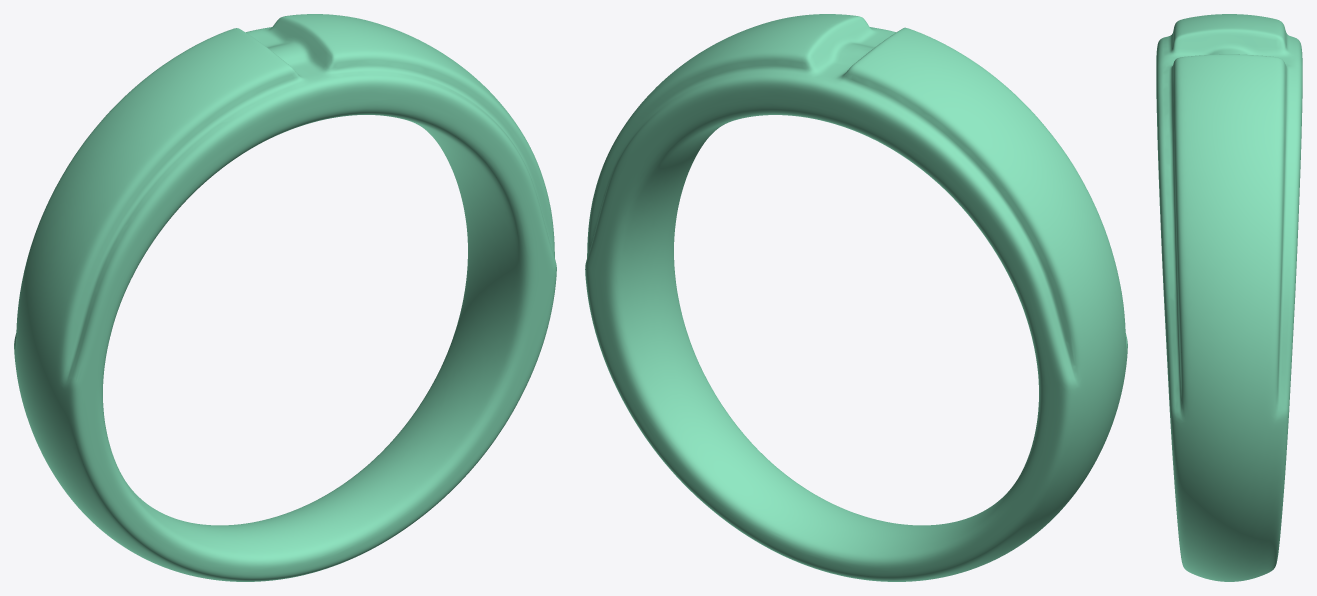
3 views of the same model, side by side, from view 1: azimuth 30°, elevation 25°; view 2: azimuth 150°, elevation 25°; view 3: azimuth 270°, elevation 25° (orthographic). The views are drawn at different scales.
Parts seen in each view (by area): view 1: Metal02; view 2: Metal02; view 3: Metal02.
Boxes of the visible parts, left/top/right/bottom form: Metal02: left=14, top=14, right=556, bottom=581; Metal02: left=585, top=14, right=1127, bottom=581; Metal02: left=1156, top=14, right=1302, bottom=581.
Bounding box in the file's own units: 21.69 × 21.82 × 5.64.
